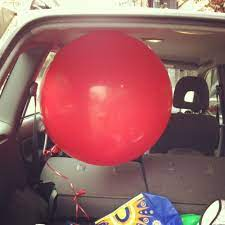Balloon: (40, 30, 173, 166)
